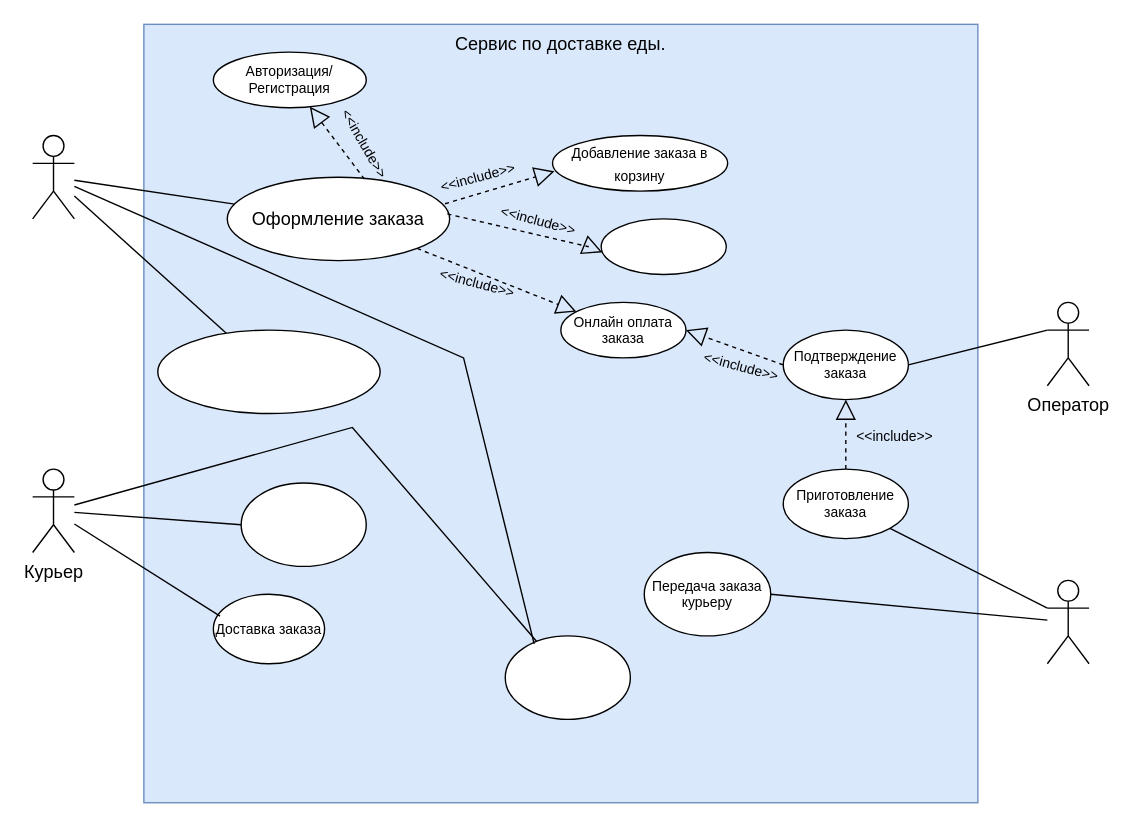
The diagram is 1133 pixels wide and 827 high, and some of its shapes have lost their labels. Here are the shapes that lost their labels. From the top down, the centre of each, then its label:
At point (52, 176): "Клиент".
At point (663, 246): "Ввод адреса доставки".
At point (268, 371): "Добавление заказа в вишлист".
At point (303, 524): "Просмотр адреса клиента".
At point (1067, 621): "Кухня".
At point (567, 677): "Просмотр статуса готовности заказа".
